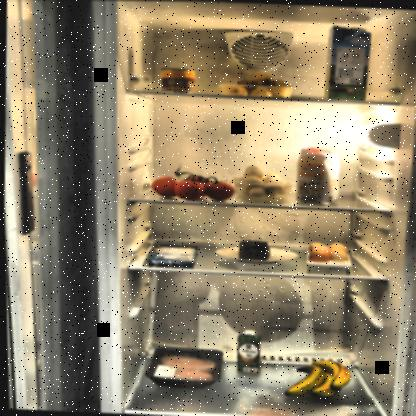banana: (281, 357, 352, 402)
cheese: (237, 239, 274, 262)
chicken: (141, 344, 225, 391)
chocolate: (146, 243, 199, 267)
corn: (157, 65, 200, 94)
eggs: (304, 240, 353, 268)
heavy_cream: (231, 328, 262, 374)
milk: (324, 23, 373, 102)
mushrooms: (228, 162, 294, 200)
potato: (217, 69, 295, 99)
tomato: (148, 163, 236, 202)
